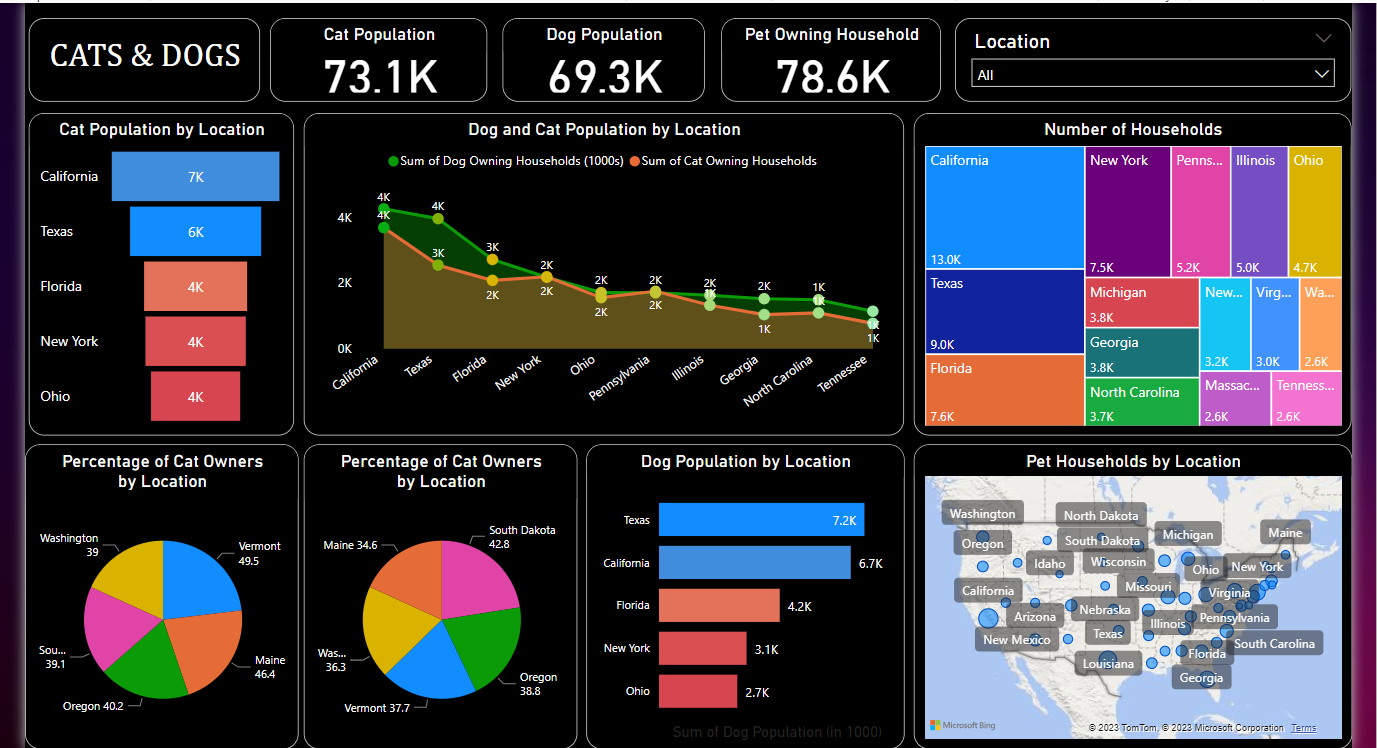

What the dashboard file says about the page in this screenshot:
{"tool":"powerbi","page":{"name":"Page 1","canvas":[1280,720],"ordinal":0},"visuals":[{"type":"treemap","title":"Number of Households","fields":{"Group":["States.Location"],"Values":["Sum(States.Number of Households (in 1000))"]},"box":[857.5,106.1,422.1,311.2],"z":0},{"type":"funnel","title":"Cat Population by Location","fields":{"Category":["States.Location"],"Y":["Sum(States.Cat Population)"]},"box":[3.6,106.1,255.7,311.2],"z":1000},{"type":"clusteredBarChart","title":"Dog Population by Location","fields":{"Category":["States.Location"],"Y":["Sum(States.Dog Population (in 1000))"]},"box":[541.5,425.4,306.8,294.6],"z":2000},{"type":"areaChart","title":"Dog and Cat Population by Location","fields":{"Category":["States.Location"],"Y":["Sum(States.Dog Owning Households (1000s))","Sum(States.Cat Owning Households)"]},"box":[268.9,106.1,578.9,311.2],"z":3000},{"type":"pieChart","title":"Percentage of Cat Owners by Location","fields":{"Y":["Sum(States.Percentage of Cat Owners)"],"Category":["States.Location"]},"box":[0,425.4,264,294.6],"z":4000},{"type":"pieChart","title":"Percentage of Cat Owners by Location","fields":{"Category":["States.Location"],"Y":["Sum(States.Percentage of Dog Owners)"]},"box":[268.9,425.4,264,294.6],"z":5000},{"type":"map","title":"Pet Households by Location","fields":{"Category":["States.Location"],"Size":["Sum(States.Number of Pet Households (in 1000))"]},"box":[856.9,425.4,423,294.6],"z":6000},{"type":"slicer","fields":{"Values":["States.Location"]},"box":[897.3,14.5,382.3,80.8],"z":7000},{"type":"card","title":"Cat Population","fields":{"Values":["Sum(States.Cat Population)"]},"box":[236.4,14.5,209.8,80.8],"z":8000},{"type":"card","title":"Dog Population","fields":{"Values":["Sum(States.Dog Population (in 1000))"]},"box":[460.7,14.5,195.4,80.8],"z":9000},{"type":"card","title":"Pet Owning Household","fields":{"Values":["Sum(States.cats and dogs owning household)"]},"box":[671.8,14.5,212.3,80.8],"z":10000},{"type":"textbox","box":[3.6,14.5,223.1,80.8],"z":10001}]}

Visuals, with their boxes on the page's 1280x720 design canvas (x1, y1, x2, y2). These are canvas units, not pixel positions in the 1377x748 screenshot, which may show the page scaled, cropped or inside an application window:
"Number of Households" treemap: l=858, t=106, r=1280, b=417
"Cat Population by Location" funnel: l=4, t=106, r=259, b=417
"Dog Population by Location" clusteredBarChart: l=542, t=425, r=848, b=720
"Dog and Cat Population by Location" areaChart: l=269, t=106, r=848, b=417
"Percentage of Cat Owners by Location" pieChart: l=0, t=425, r=264, b=720
"Percentage of Cat Owners by Location" pieChart: l=269, t=425, r=533, b=720
"Pet Households by Location" map: l=857, t=425, r=1280, b=720
slicer - States.Location: l=897, t=14, r=1280, b=95
"Cat Population" card: l=236, t=14, r=446, b=95
"Dog Population" card: l=461, t=14, r=656, b=95
"Pet Owning Household" card: l=672, t=14, r=884, b=95
textbox: l=4, t=14, r=227, b=95
